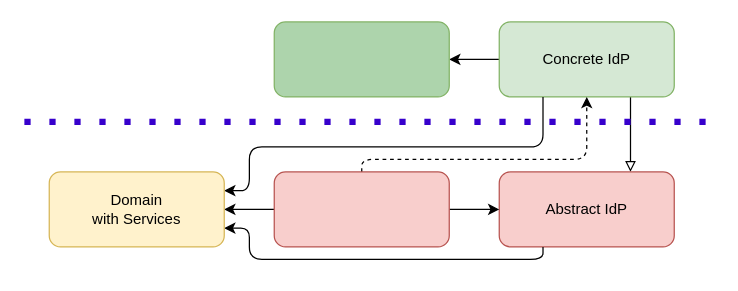
This 738x291 diagram has some shape labels left out. Here are the shapes that lost their labels. From the top down, the centre of each, then its label:
At (x=361, y=59): "Infrastructure Data & Services".
At (x=361, y=209): "Application Interactors / Services".
